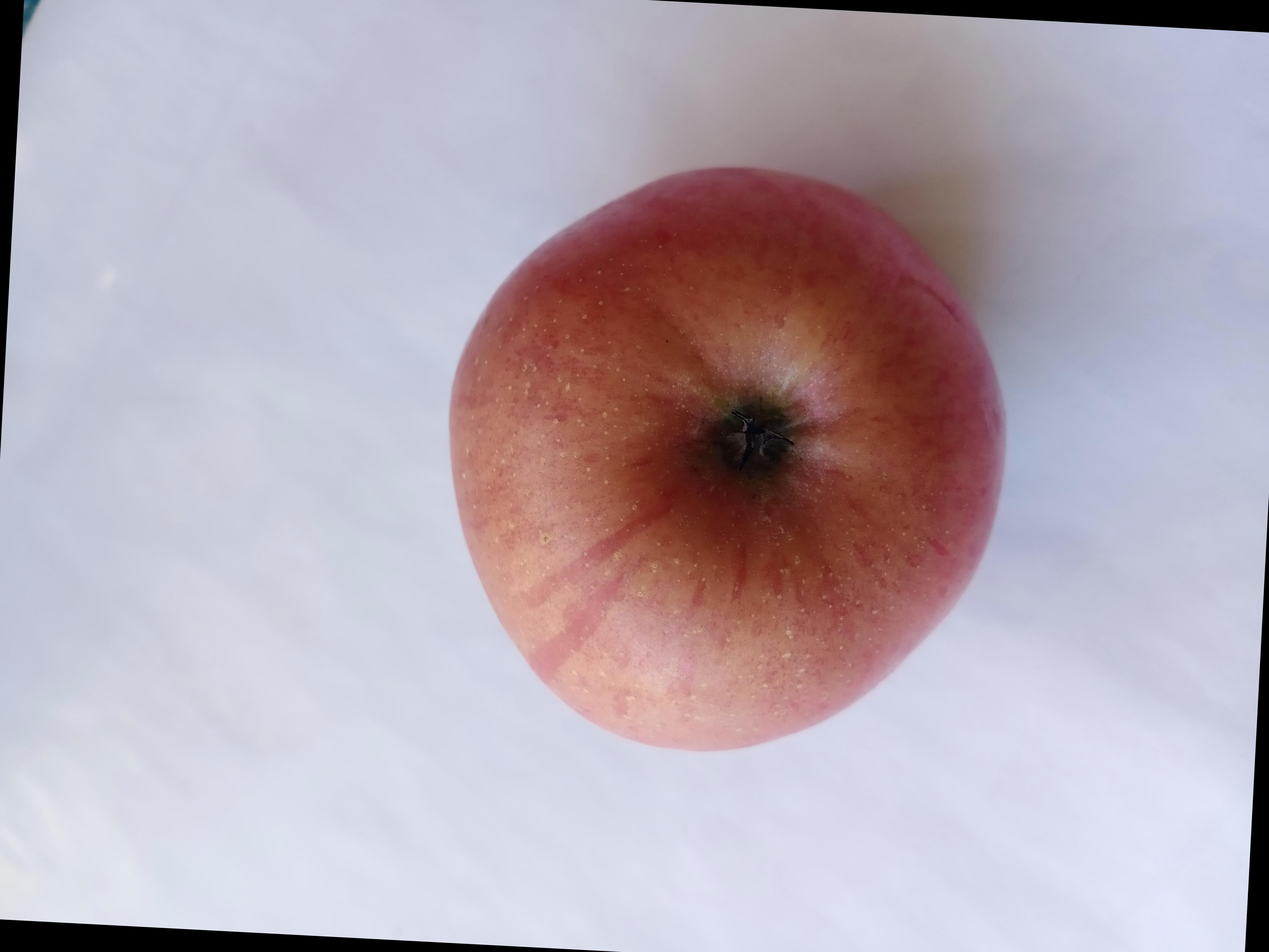Apple Ripe: (438, 84, 1066, 761)
